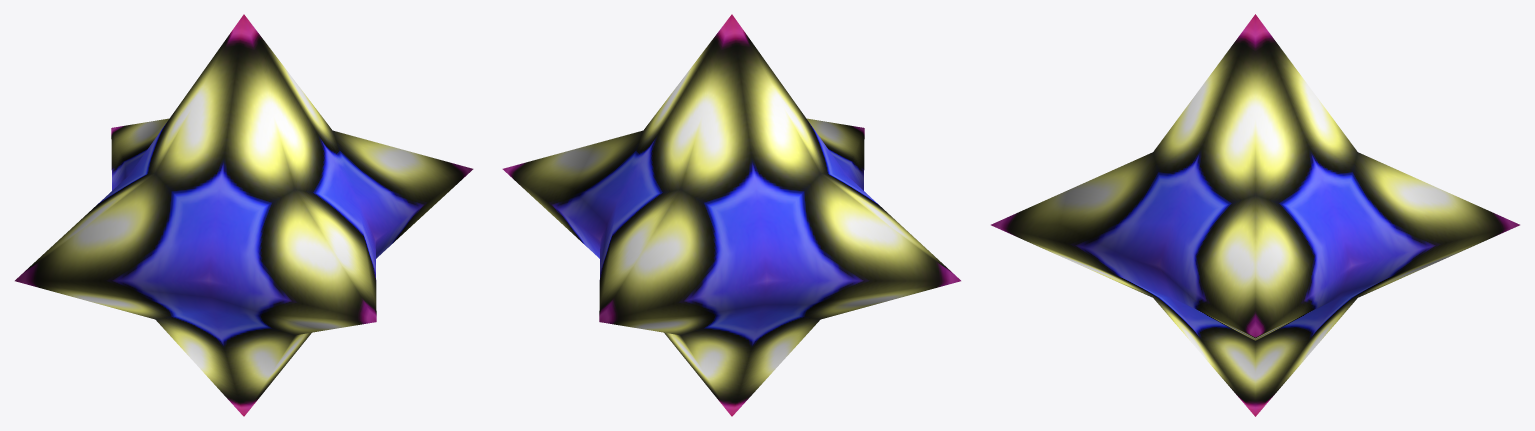
The model's file is misc-06.fbx.
3 views of the same model, side by side, from view 1: azimuth 30°, elevation 25°; view 2: azimuth 150°, elevation 25°; view 3: azimuth 270°, elevation 25° (orthographic).
Parts seen in each view (by area): view 1: misc-06; view 2: misc-06; view 3: misc-06.
Part boxes in pixels (bbox=[...]): misc-06: bbox=[15, 14, 473, 416]; misc-06: bbox=[502, 14, 960, 416]; misc-06: bbox=[991, 14, 1519, 416].
Size of the model in its own units: 37.24 by 31.22 by 37.24.
